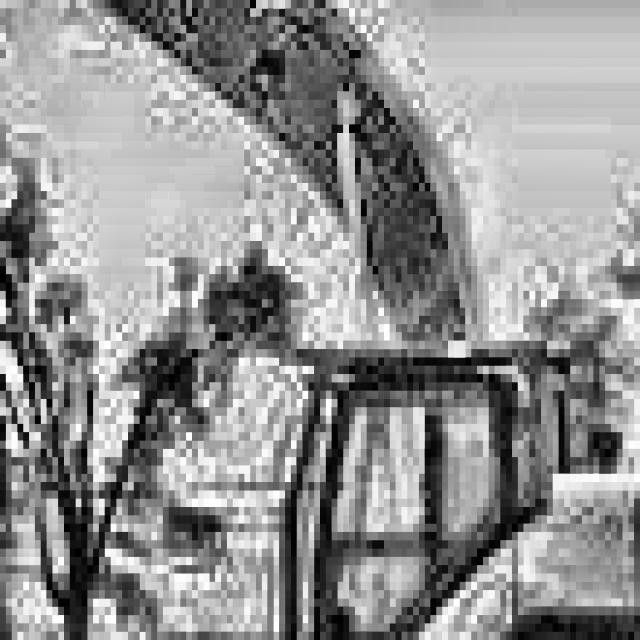excavator: (221, 307, 640, 640)
